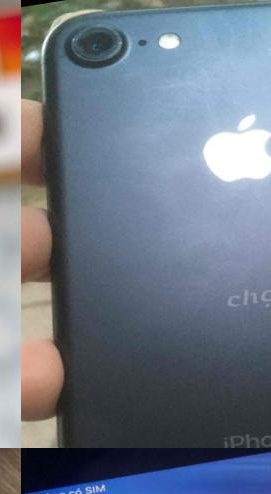scratch: (62, 16, 131, 74)
